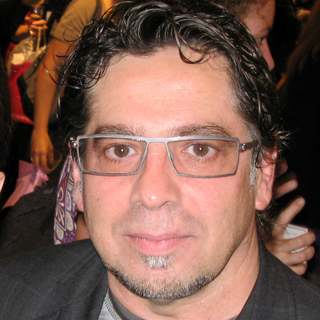eye: (174, 140, 224, 162), (98, 141, 143, 164)
